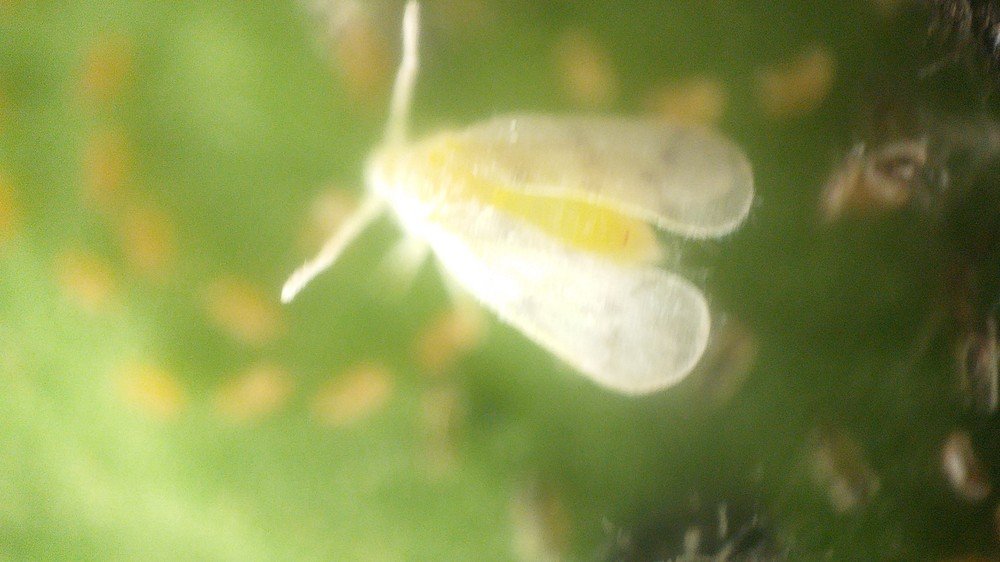Mosca Blanca: (264, 1, 772, 431)
